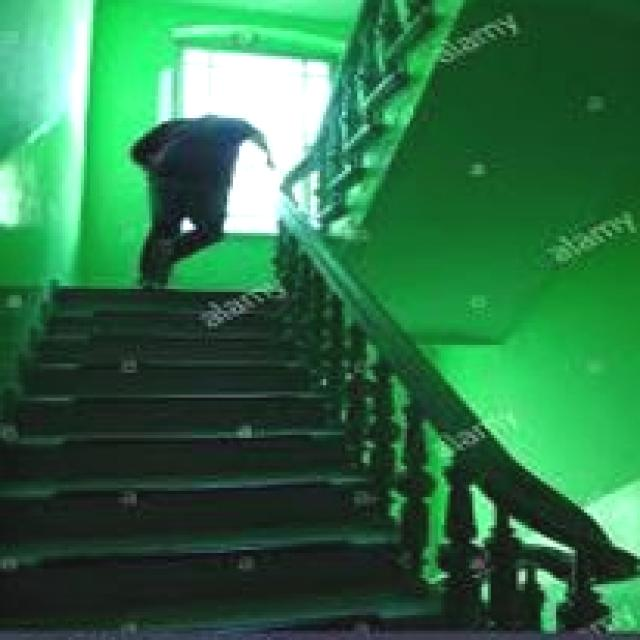upstair: (20, 383, 402, 585)
